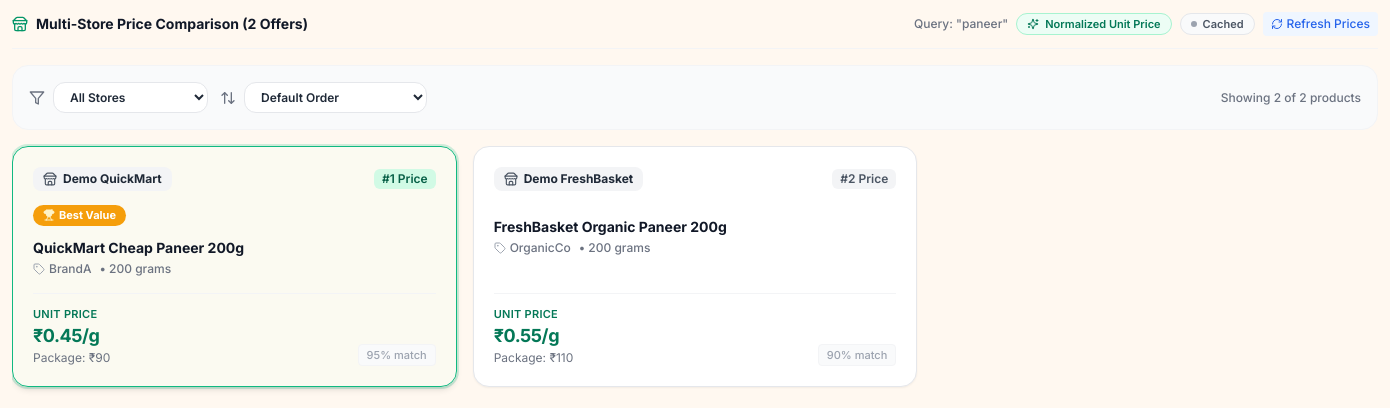
Scenario: Phase 6.4.5 — Store Filters & Sorting UI › 7. GroceryPriceComparison respects store filter and sorting
Expected: the element with test id "grocery-filter-bar" is shown, x1=12 y1=65 x2=1378 y2=130
Select "Demo QuickMart" in the dropdown named "Filter by store" at {"x": 130, "y": 98}, box x1=53 y1=82 x2=208 y2=113
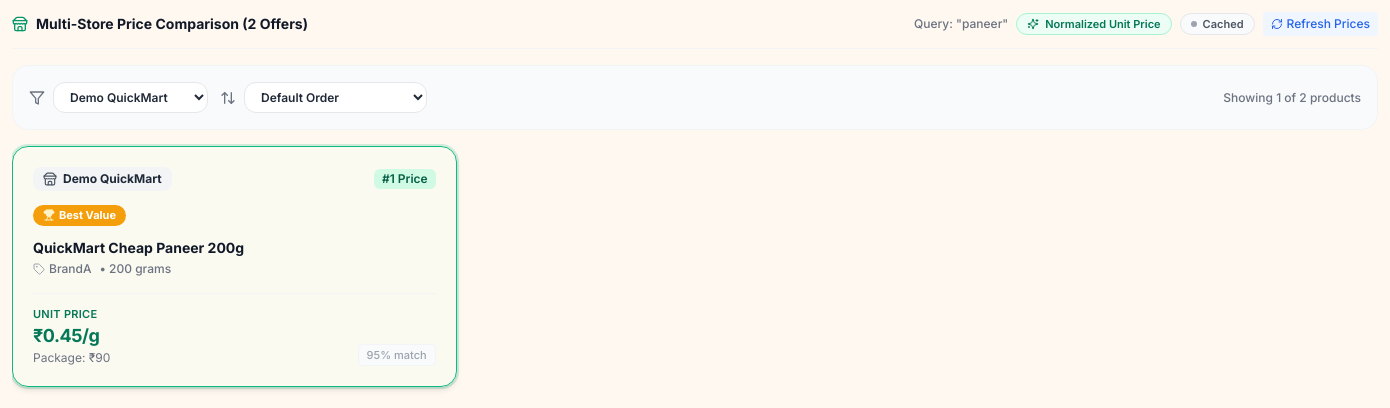
Expected: the element with test id "grocery-compare-item-p1" is shown, x1=12 y1=146 x2=457 y2=387
Result: the element with test id "grocery-compare-item-p3" is gone
